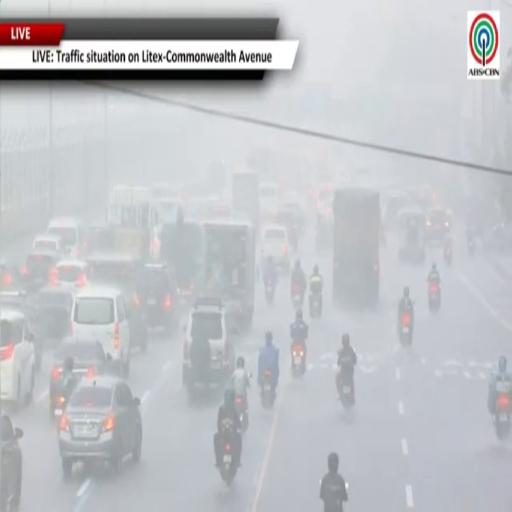car: (58, 376, 142, 479), (87, 252, 148, 351), (71, 286, 130, 375), (183, 297, 235, 392), (49, 336, 107, 418), (161, 220, 205, 307), (0, 291, 44, 371), (0, 309, 35, 405), (134, 264, 179, 332), (32, 286, 73, 346), (0, 415, 23, 510), (21, 250, 59, 291), (47, 218, 83, 258), (261, 226, 290, 271), (84, 222, 115, 255), (55, 261, 89, 291), (425, 207, 452, 244), (282, 200, 307, 233), (259, 183, 279, 222), (32, 233, 65, 255), (0, 261, 20, 290), (316, 184, 334, 214), (185, 199, 209, 220)
motorcycle: (494, 382, 511, 440), (219, 437, 237, 485), (495, 394, 510, 440), (337, 372, 354, 409), (261, 371, 275, 408), (399, 311, 412, 346), (236, 395, 248, 431), (292, 344, 305, 377), (51, 395, 66, 423), (429, 282, 440, 312), (310, 293, 321, 318), (292, 285, 303, 310), (265, 280, 275, 303), (444, 245, 452, 266), (468, 238, 476, 257), (342, 502, 348, 511)
truck: (333, 186, 380, 307), (203, 219, 255, 328), (232, 171, 259, 232)
